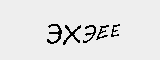Е: (97, 22, 109, 41), (110, 22, 122, 39)
Х: (61, 22, 80, 47)
Э: (45, 22, 62, 46), (83, 22, 95, 45)
